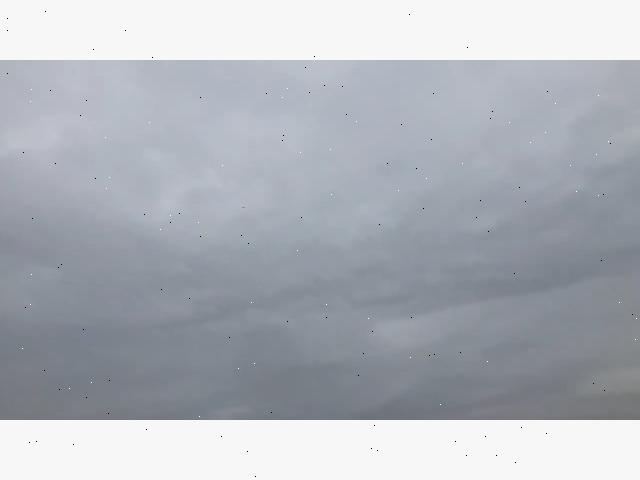Anti-Drone: (233, 202, 255, 214)
